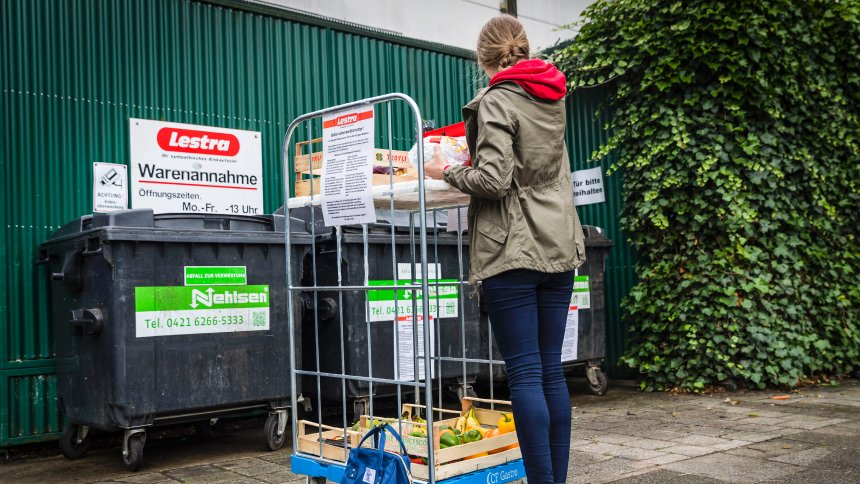Dumpster: (31, 210, 325, 462), (283, 194, 500, 428), (465, 215, 622, 412)
Person: (421, 13, 603, 484)
